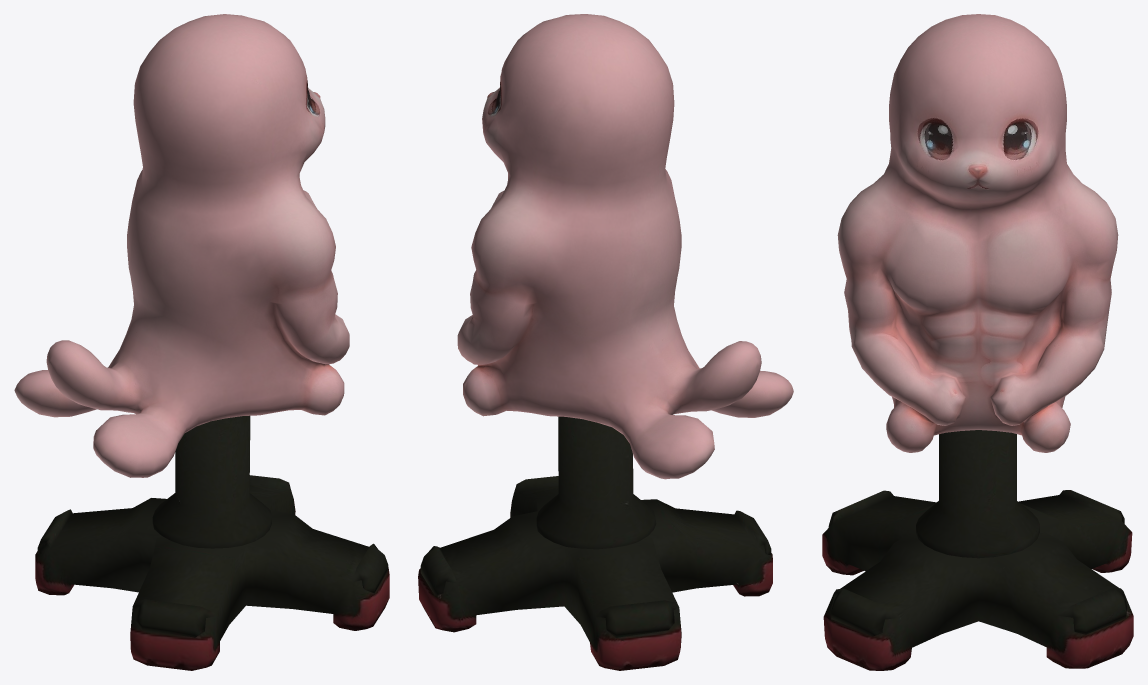
3 views of the same model, side by side, from view 1: azimuth 30°, elevation 25°; view 2: azimuth 150°, elevation 25°; view 3: azimuth 270°, elevation 25° (orthographic). The views are drawn at different scales.
Parts seen in each view (by area): view 1: tripo_node_7bbb3519-cd2c-4634-bdaf-22b920137180; view 2: tripo_node_7bbb3519-cd2c-4634-bdaf-22b920137180; view 3: tripo_node_7bbb3519-cd2c-4634-bdaf-22b920137180.
Part boxes in pixels (x1=…): tripo_node_7bbb3519-cd2c-4634-bdaf-22b920137180: x1=14, y1=14, x2=389, y2=670; tripo_node_7bbb3519-cd2c-4634-bdaf-22b920137180: x1=418, y1=14, x2=793, y2=670; tripo_node_7bbb3519-cd2c-4634-bdaf-22b920137180: x1=822, y1=14, x2=1133, y2=670.
Size of the model in its own units: 0.5293 by 0.998 by 0.4746.
Materials: 1 (1 with a texture image).
